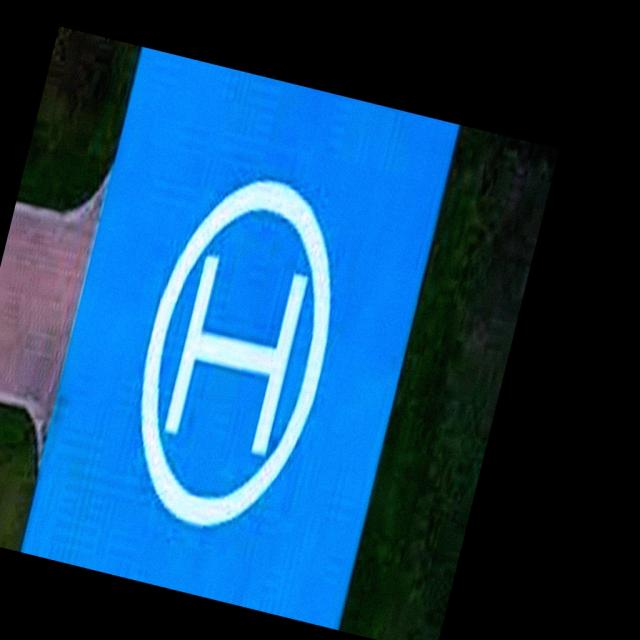helipad: (137, 172, 335, 529)
